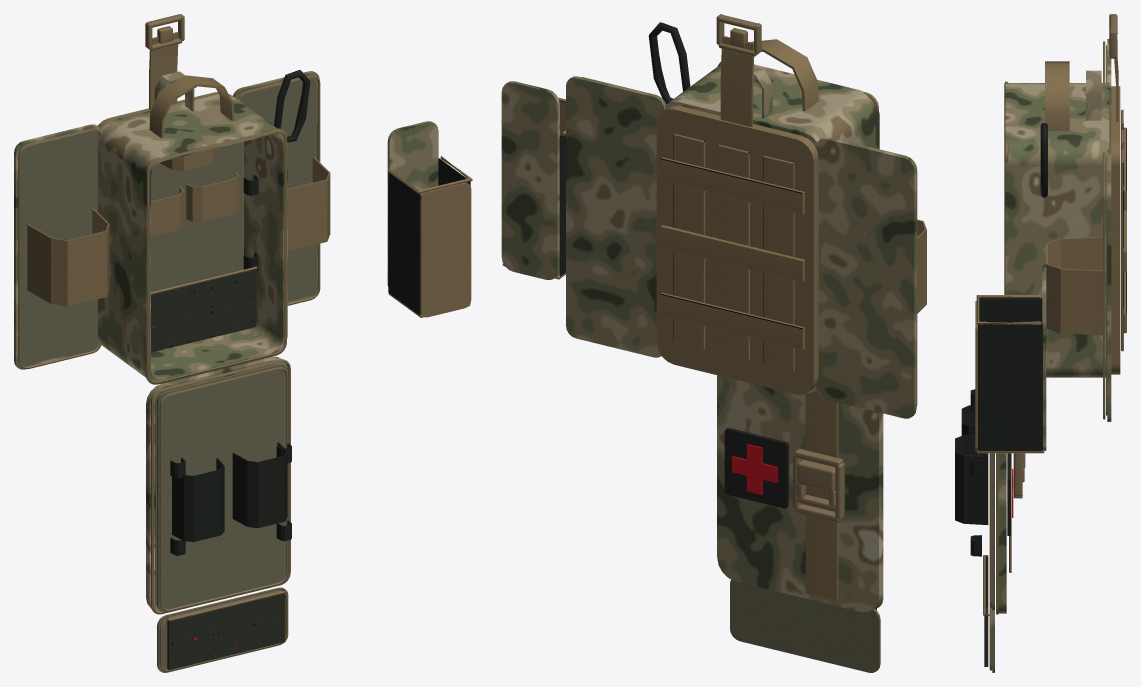
File: ifak.fbx
3 renders of one model, left to right at view 1: azimuth 30°, elevation 25°; view 2: azimuth 150°, elevation 25°; view 3: azimuth 270°, elevation 25°, orthographic. The views are drawn at different scales.
Visible parts, largest first — view 1: Body, InnerPanel_Lower, InnerPanel_LeftWing, InnerPanel_Upper, QuickPouch, InnerPanel_RightWing, InnerPanel_LowerExtension, Flap, BackPanel; view 2: BackPanel, Flap, InnerPanel_LeftWing, InnerPanel_RightWing, QuickPouch, Body, InnerPanel_LowerExtension; view 3: Body, QuickPouch, InnerPanel_RightWing, BackPanel, InnerPanel_Lower, Flap, InnerPanel_LowerExtension, PullTab, InnerPanel_LeftWing.
Boxes of the visible parts, bbox=[...] form: Body: bbox=[98, 70, 310, 384]; InnerPanel_Lower: bbox=[157, 364, 291, 612]; InnerPanel_LeftWing: bbox=[14, 124, 109, 369]; InnerPanel_Upper: bbox=[151, 141, 258, 352]; QuickPouch: bbox=[387, 121, 472, 317]; InnerPanel_RightWing: bbox=[233, 71, 330, 305]; InnerPanel_LowerExtension: bbox=[157, 587, 288, 672]; Flap: bbox=[146, 356, 290, 614]; BackPanel: bbox=[97, 14, 218, 128]; BackPanel: bbox=[656, 14, 818, 394]; Flap: bbox=[717, 375, 883, 611]; InnerPanel_LeftWing: bbox=[816, 137, 926, 418]; InnerPanel_RightWing: bbox=[566, 76, 665, 357]; QuickPouch: bbox=[501, 81, 565, 279]; Body: bbox=[648, 22, 879, 393]; InnerPanel_LowerExtension: bbox=[730, 579, 880, 672]; Body: bbox=[1004, 61, 1109, 377]; QuickPouch: bbox=[975, 263, 1046, 453]; InnerPanel_RightWing: bbox=[1046, 149, 1111, 421]; BackPanel: bbox=[1109, 14, 1126, 374]; InnerPanel_Lower: bbox=[955, 389, 994, 610]; Flap: bbox=[996, 453, 1025, 614]; InnerPanel_LowerExtension: bbox=[983, 555, 994, 672]; PullTab: bbox=[1086, 70, 1101, 120]; InnerPanel_LeftWing: bbox=[1103, 39, 1111, 148].
Size of the model in its own units: 0.363 by 0.526 by 0.1321.
